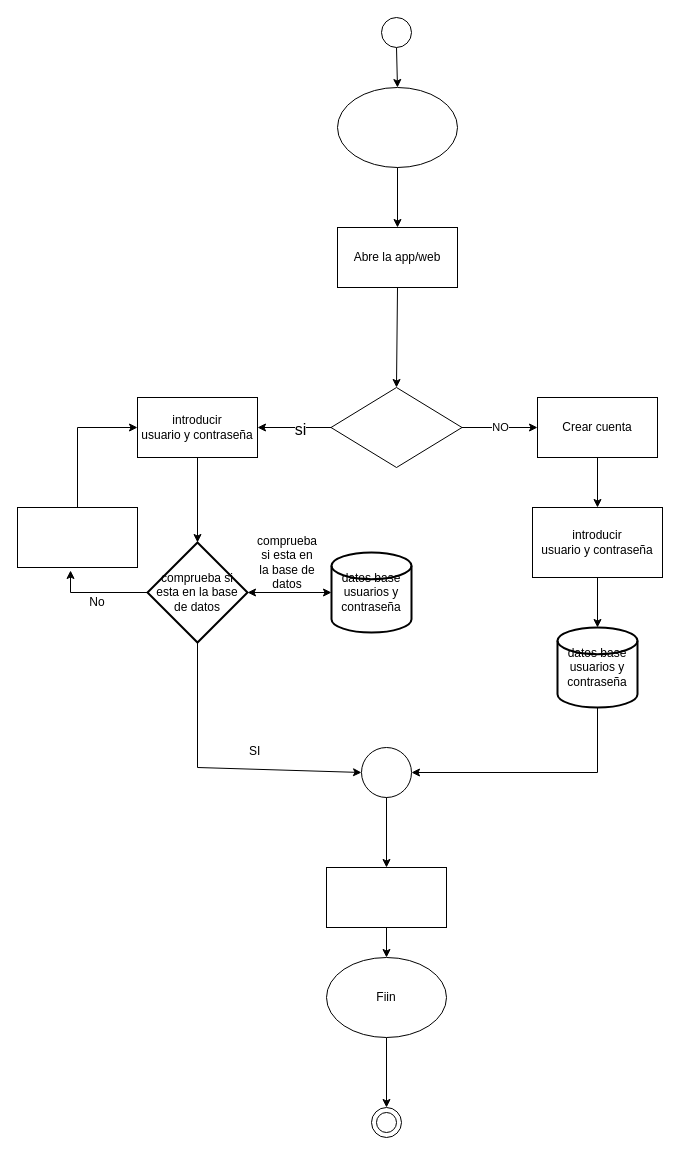
Some shapes in this 680 by 1155 pixel diagram are drawn without their labels. Here are the shapes that lost their labels. From the top down, the centre of each, then its label:
At point (397, 127): "inicio".
At point (396, 427): "Tener una cuenta".
At point (77, 537): "Mensaje de error".
At point (386, 897): "Inicio de sesion exitoso".
